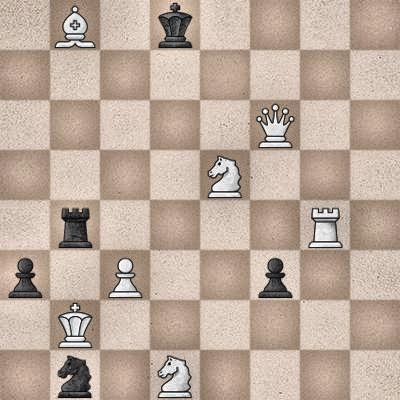black-king: (150, 0, 200, 50)
black-knight: (50, 350, 100, 400)
black-pawn: (0, 250, 50, 300), (250, 250, 300, 300)
black-rook: (50, 200, 100, 250)
white-bishop: (50, 0, 100, 50)
white-king: (50, 300, 100, 350)
white-knight: (200, 150, 250, 200), (150, 350, 200, 400)
white-pawn: (100, 250, 150, 300)
white-queen: (250, 100, 300, 150)
white-rook: (300, 200, 350, 250)
